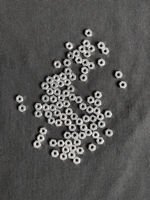nut: (73, 157, 81, 165), (68, 152, 76, 160), (51, 150, 59, 158), (62, 146, 70, 154), (64, 132, 72, 140), (85, 129, 93, 137), (69, 124, 77, 132), (80, 124, 88, 132), (98, 121, 106, 129), (65, 108, 73, 116), (115, 71, 123, 79), (67, 85, 75, 93), (46, 88, 54, 96), (59, 73, 67, 81), (80, 74, 88, 82), (63, 59, 71, 67), (98, 59, 106, 67), (102, 47, 110, 55), (98, 42, 106, 50), (85, 29, 93, 37), (60, 153, 67, 161), (77, 147, 84, 155), (70, 145, 77, 153), (89, 144, 96, 152), (97, 138, 105, 145), (50, 140, 57, 148), (34, 141, 41, 149), (37, 135, 45, 142), (57, 140, 65, 147), (65, 140, 72, 148), (74, 139, 81, 147), (106, 129, 113, 137), (72, 132, 79, 140), (79, 132, 86, 140), (92, 132, 100, 139), (19, 105, 26, 113), (16, 96, 24, 103), (91, 123, 98, 131), (35, 103, 42, 111), (48, 117, 55, 125), (55, 120, 63, 127), (64, 119, 72, 126), (76, 118, 83, 126), (83, 115, 90, 123), (90, 115, 97, 123), (97, 113, 104, 121), (105, 111, 113, 118), (60, 113, 67, 121), (71, 113, 78, 121), (54, 110, 62, 117), (42, 104, 49, 112), (49, 104, 56, 112), (80, 103, 87, 111), (87, 106, 94, 114), (94, 107, 101, 115), (42, 95, 49, 103), (50, 96, 57, 104), (94, 100, 102, 107), (95, 91, 102, 99), (75, 97, 83, 104), (63, 90, 70, 98), (41, 83, 49, 90), (50, 82, 58, 89), (46, 77, 54, 84), (57, 80, 64, 88), (82, 67, 89, 75), (54, 61, 61, 69), (68, 52, 75, 60), (88, 62, 95, 70), (75, 57, 83, 64), (66, 42, 73, 50), (88, 45, 95, 53), (83, 40, 91, 47), (40, 128, 47, 135), (35, 111, 42, 118), (45, 111, 52, 118), (56, 102, 63, 109), (63, 101, 70, 108), (58, 95, 65, 102), (88, 97, 95, 104), (120, 82, 127, 89), (69, 94, 76, 101), (54, 89, 61, 96), (64, 79, 71, 86), (53, 75, 60, 82), (69, 74, 76, 81), (65, 68, 72, 75), (82, 59, 89, 66), (73, 50, 80, 57), (84, 51, 91, 58), (79, 46, 86, 53)
